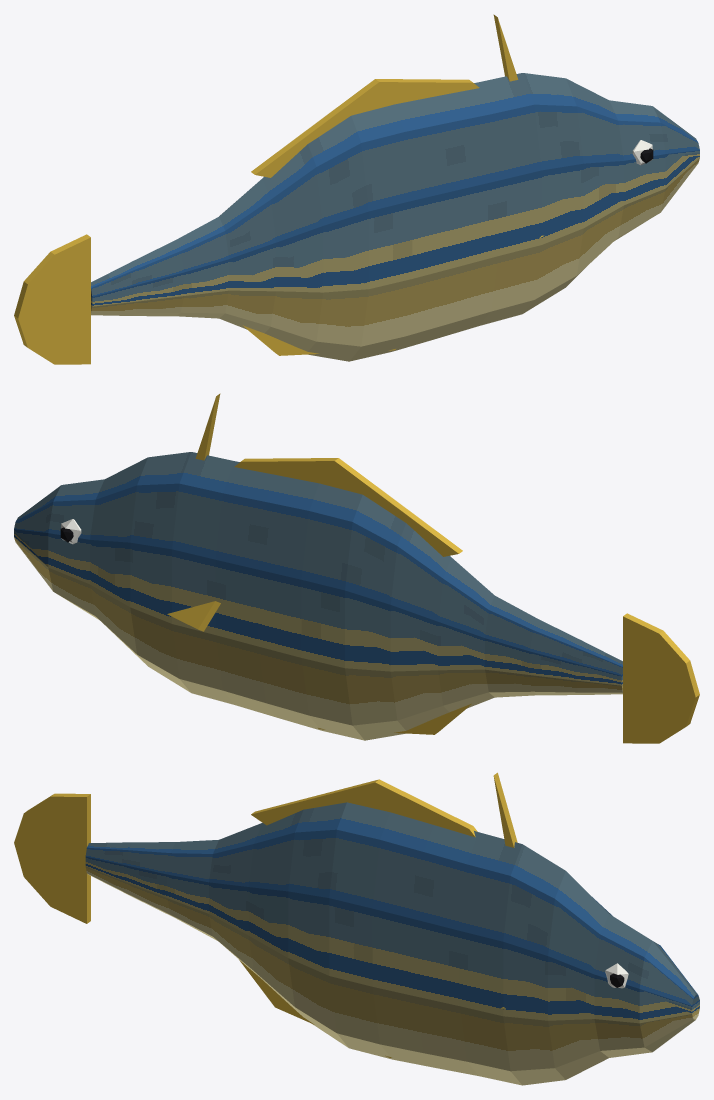
The model's file is six_spined_leatherjacket.glb.
3 views of the same model, one above another, from view 1: azimuth 30°, elevation 25°; view 2: azimuth 150°, elevation 25°; view 3: azimuth 330°, elevation 25° (orthographic).
Parts seen in each view (by area): view 1: fish_six_spined_leatherjacket; view 2: fish_six_spined_leatherjacket; view 3: fish_six_spined_leatherjacket.
Part boxes in pixels (box(x1,y1,x2,y2)): fish_six_spined_leatherjacket: box(14, 14, 699, 364); fish_six_spined_leatherjacket: box(14, 393, 699, 743); fish_six_spined_leatherjacket: box(14, 772, 699, 1085).
Bounding box in the file's own units: 1.12 × 0.4893 × 0.1417.
4 materials, 1 textured.
